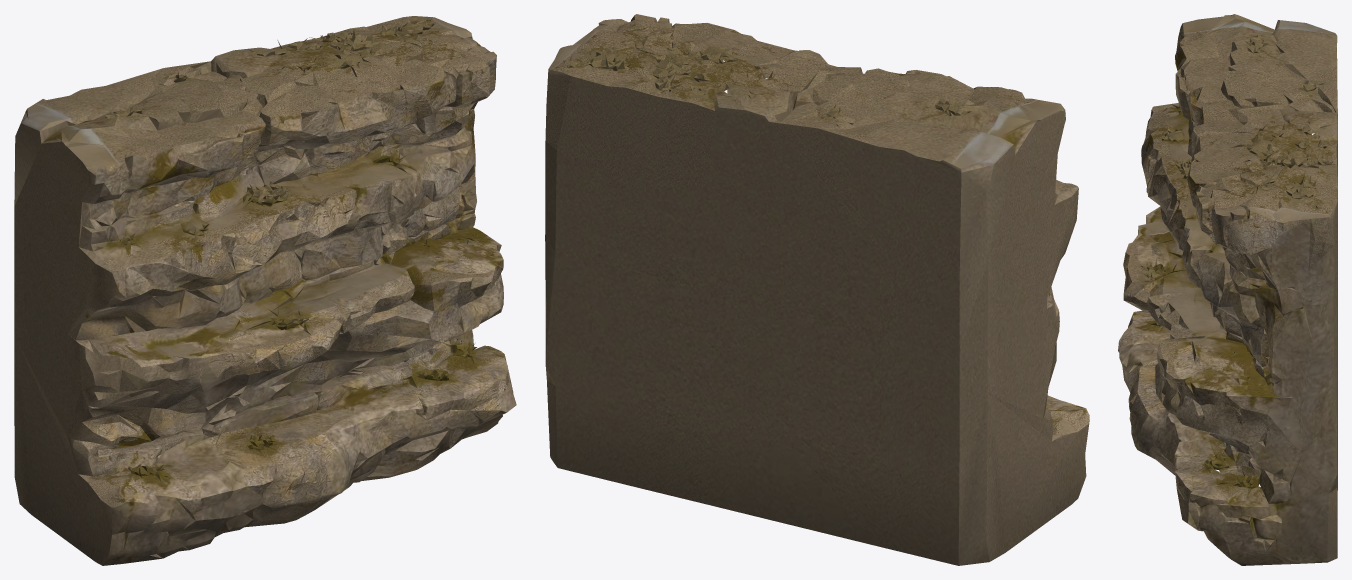
File: pared_estratos_alto.glb
3 renders of one model, left to right at view 1: azimuth 30°, elevation 25°; view 2: azimuth 150°, elevation 25°; view 3: azimuth 270°, elevation 25°, orthographic. The views are drawn at different scales.
Visible parts, largest first — view 1: alto; view 2: alto; view 3: alto.
Part boxes in pixels (x1,y1,x2,y2): alto: (14, 16, 516, 565); alto: (545, 14, 1089, 565); alto: (1118, 14, 1337, 565).
Size of the model in its own units: 4.6 by 4 by 2.15.
Materials: 1 (1 with a texture image).
